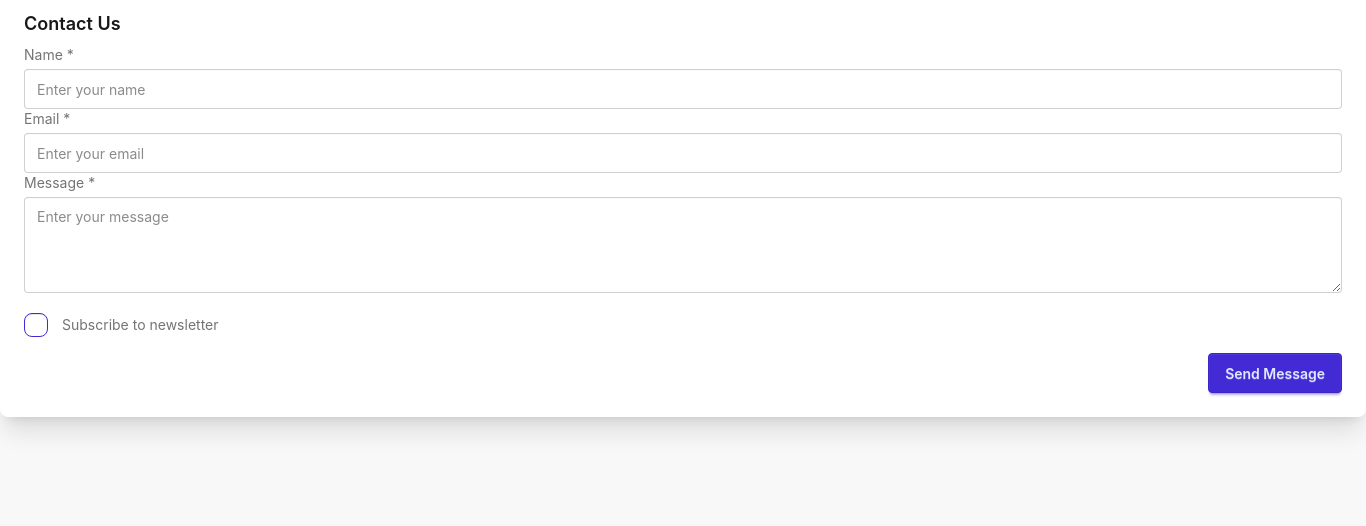
contactForm › lehnt eine ungültige E-Mail-Adresse ab
This screenshot has width=1366, height=526.
Type "invalid-email" into the field labelled "Email *" at (683, 153), box [24, 133, 1342, 173]
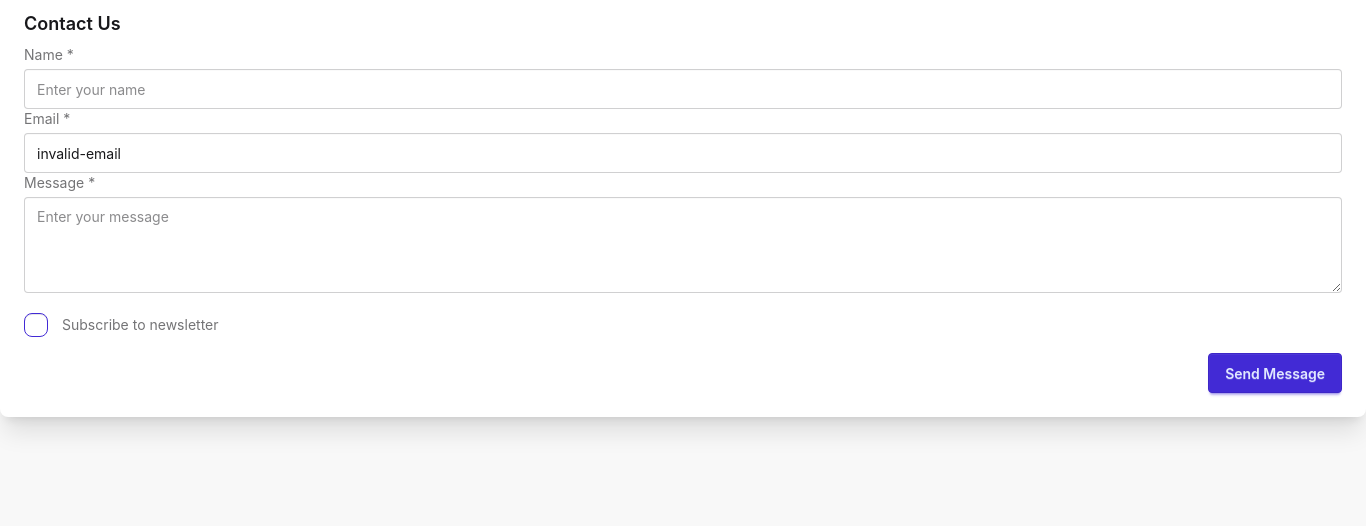
Click the button "Send Message" at (1275, 373), box [1208, 353, 1342, 393]
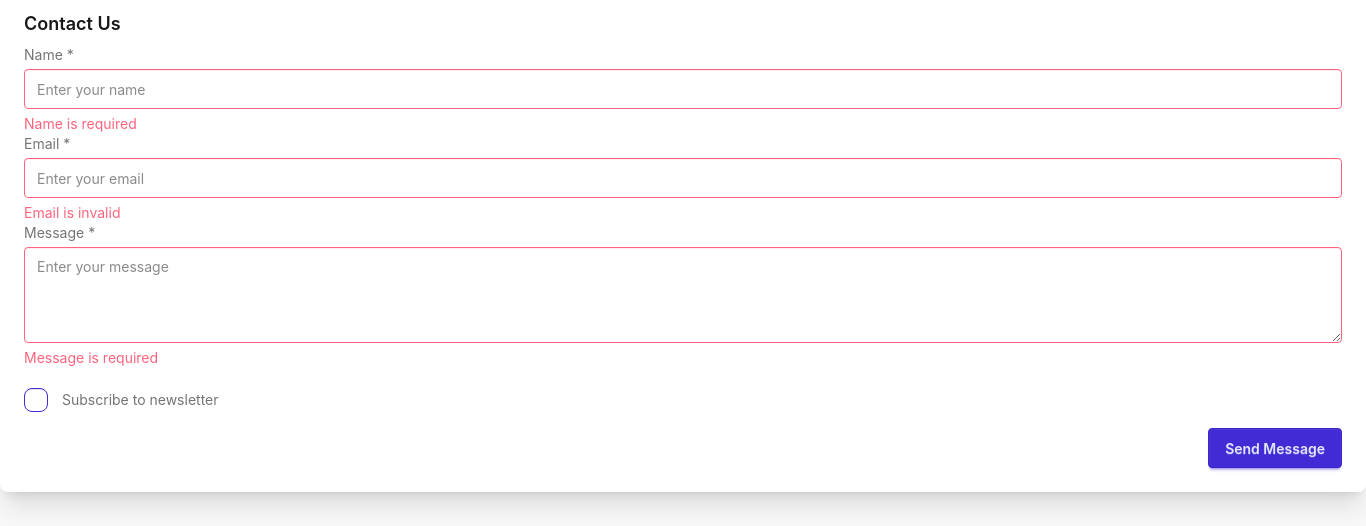
Expected: the text "Email is invalid" is shown, [24, 204, 120, 221]
